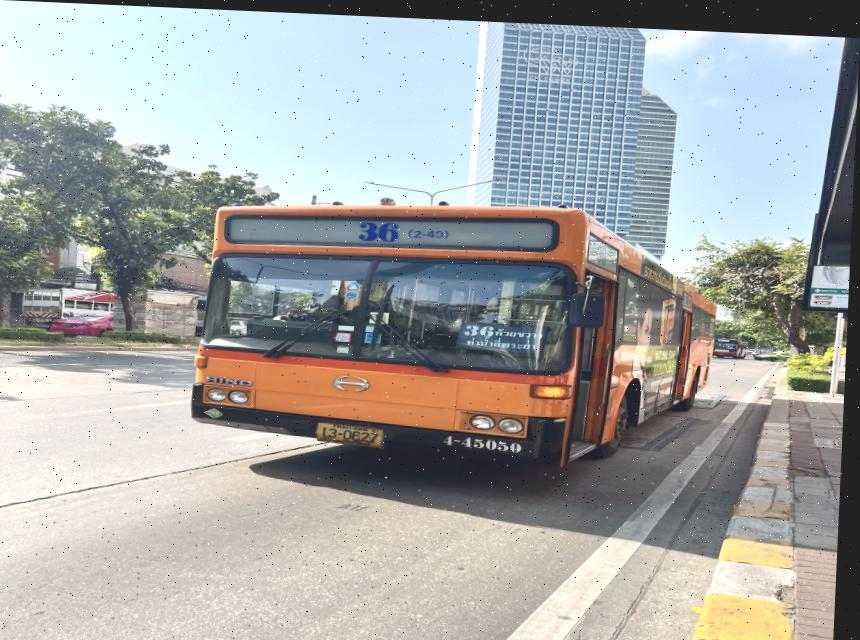BMTA-bus: (194, 201, 721, 463), (725, 331, 750, 351)
Bus Line Number: (351, 212, 455, 245)
Bus Side Number: (441, 431, 531, 451)
Destination Sign: (460, 316, 550, 353)
